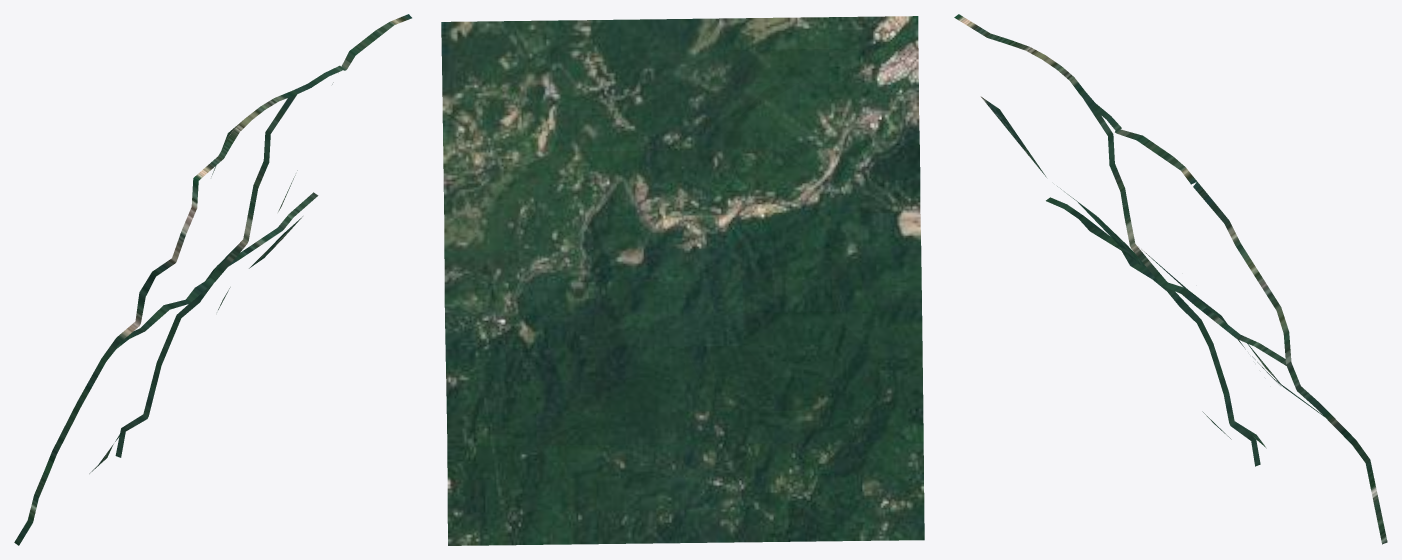
3 views of the same model, side by side, from view 1: azimuth 30°, elevation 25°; view 2: azimuth 150°, elevation 25°; view 3: azimuth 270°, elevation 25° (orthographic). The views are drawn at different scales.
Bounding box in the file's own units: 4881 × 4540 × 4193.
1 material, 1 textured.
